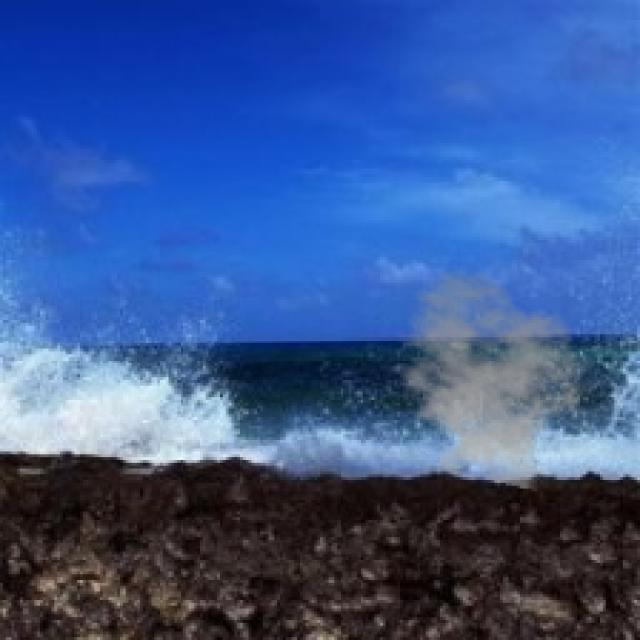smoke: (380, 268, 594, 492)
